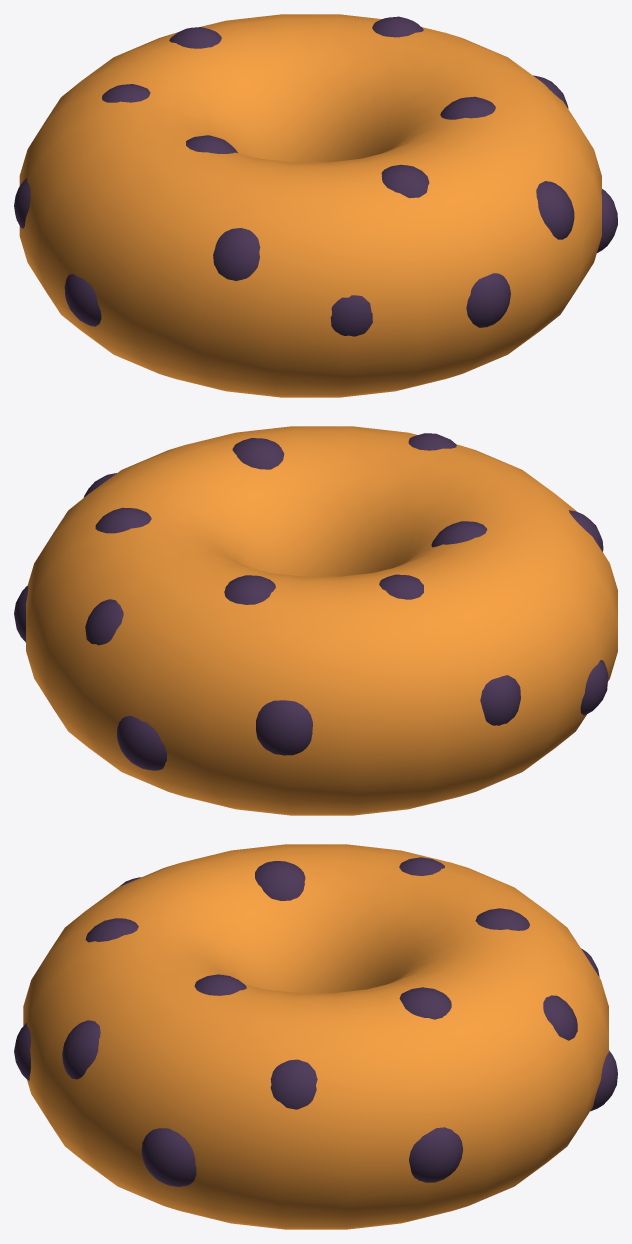
The model's file is donut_05.fbx.
The picture shows the model from 3 angles, top to bottom: view 1: azimuth 30°, elevation 25°; view 2: azimuth 150°, elevation 25°; view 3: azimuth 270°, elevation 25°; orthographic projection.
Parts seen in each view (by area): view 1: donut_05; view 2: donut_05; view 3: donut_05.
Part boxes in pixels (left/top/right/bottom): donut_05: left=14, top=14, right=617, bottom=397; donut_05: left=14, top=426, right=617, bottom=815; donut_05: left=14, top=844, right=617, bottom=1229.
Size of the model in its own units: 1704 by 701 by 1734.
